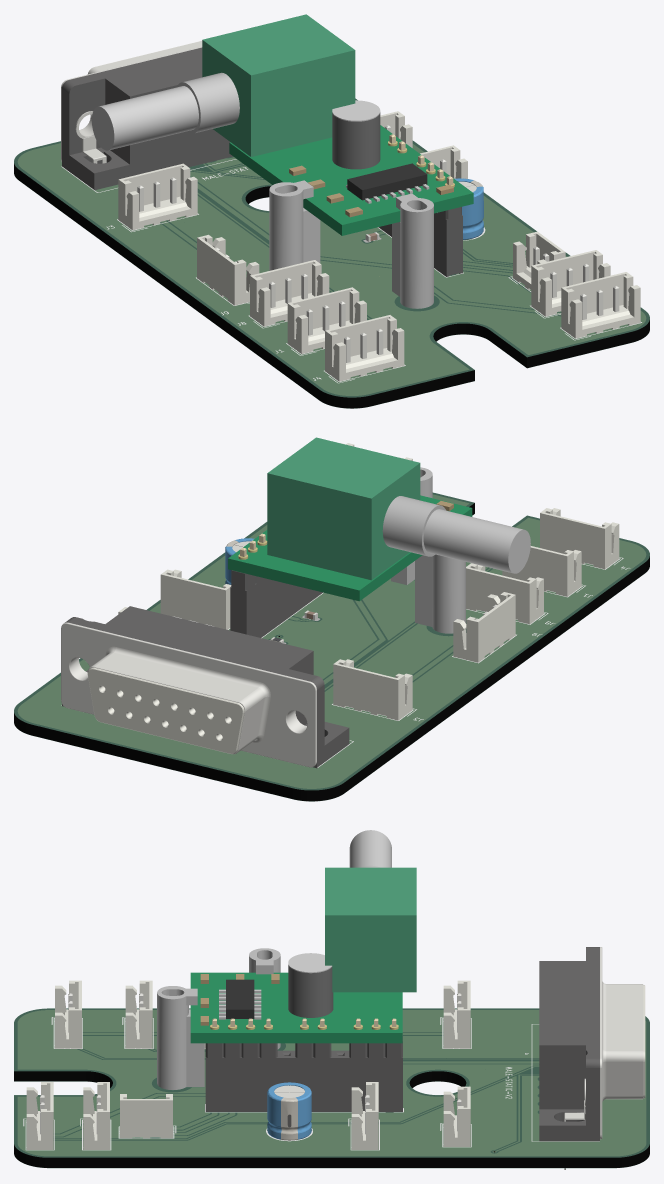
File: male-static-v2.glb
The picture shows the model from 3 angles, top to bottom: view 1: azimuth 30°, elevation 25°; view 2: azimuth 150°, elevation 25°; view 3: azimuth 270°, elevation 25°; orthographic projection. The views are drawn at different scales.
Parts seen in each view (by area): view 1: male-static-v2_visual_layers_4, M1.001, male-static-v2_visual_layers_2, J7, male-static-v2_visual_layers_1, H2, J3, J2, J4, H1, J1, J8 (+8 smaller); view 2: male-static-v2_visual_layers_4, J7, M1.001, male-static-v2_visual_layers_2, male-static-v2_visual_layers_1, H1, J3, M1, J4, J11, J9, J8 (+4 smaller); view 3: male-static-v2_visual_layers_4, male-static-v2_visual_layers_2, M1.001, J7, male-static-v2_visual_layers_1, M1, H2, C1, J6, J1, J3, J2 (+10 smaller).
Part boxes in pixels (x1=…): male-static-v2_visual_layers_4: x1=14, y1=98, x2=649, y2=397; M1.001: x1=91, y1=14, x2=473, y2=235; male-static-v2_visual_layers_2: x1=18, y1=143, x2=645, y2=395; J7: x1=61, y1=41, x2=232, y2=190; male-static-v2_visual_layers_1: x1=14, y1=141, x2=649, y2=408; H2: x1=392, y1=193, x2=433, y2=308; J3: x1=118, y1=163, x2=197, y2=230; J2: x1=561, y1=272, x2=640, y2=338; J4: x1=325, y1=315, x2=404, y2=381; H1: x1=269, y1=180, x2=320, y2=270; J1: x1=287, y1=287, x2=366, y2=353; J8: x1=250, y1=260, x2=329, y2=326; male-static-v2_visual_layers_4: x1=14, y1=492, x2=649, y2=790; J7: x1=61, y1=606, x2=349, y2=768; M1.001: x1=228, y1=437, x2=530, y2=601; male-static-v2_visual_layers_2: x1=18, y1=495, x2=645, y2=788; male-static-v2_visual_layers_1: x1=14, y1=493, x2=649, y2=801; H1: x1=415, y1=554, x2=465, y2=633; J3: x1=333, y1=659, x2=412, y2=720; M1: x1=230, y1=578, x2=322, y2=637; J4: x1=540, y1=508, x2=619, y2=569; J11: x1=160, y1=569, x2=231, y2=629; J9: x1=453, y1=592, x2=515, y2=662; J8: x1=466, y1=563, x2=543, y2=624; male-static-v2_visual_layers_4: x1=14, y1=1008, x2=649, y2=1157; male-static-v2_visual_layers_2: x1=18, y1=1010, x2=645, y2=1155; M1.001: x1=190, y1=830, x2=416, y2=1043; J7: x1=539, y1=947, x2=645, y2=1169; male-static-v2_visual_layers_1: x1=14, y1=1009, x2=649, y2=1167; M1: x1=205, y1=1050, x2=402, y2=1112; H2: x1=157, y1=986, x2=204, y2=1089; C1: x1=267, y1=1082, x2=311, y2=1140; J6: x1=120, y1=1094, x2=172, y2=1138; J1: x1=125, y1=980, x2=152, y2=1048; J3: x1=443, y1=980, x2=470, y2=1048; J2: x1=26, y1=1082, x2=53, y2=1149.
Size of the model in its own units: 0.057 by 0.033 by 0.09.
